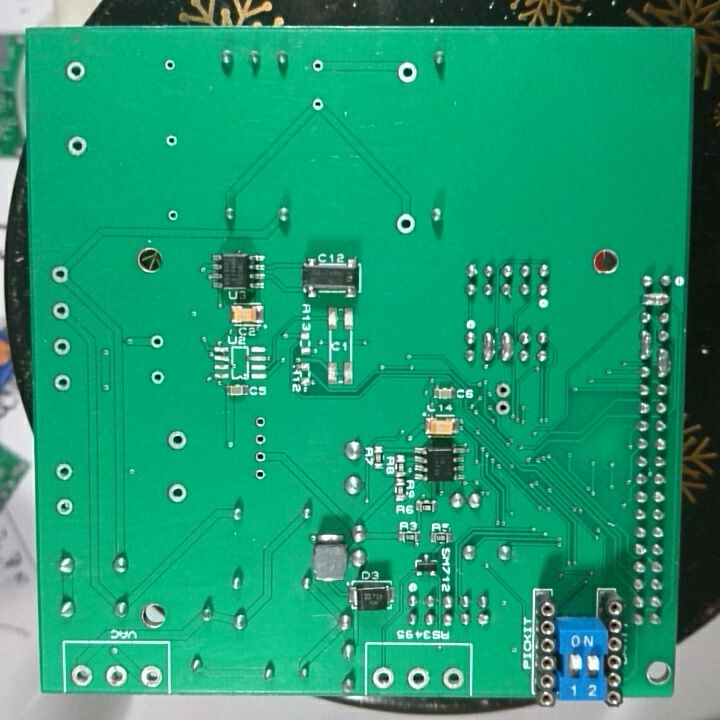F: (137, 663, 165, 692), (368, 664, 396, 691), (63, 56, 88, 86), (68, 662, 95, 689), (394, 58, 419, 87), (103, 662, 129, 689), (405, 664, 431, 691), (439, 665, 465, 692), (392, 211, 418, 238), (165, 427, 189, 455), (64, 133, 90, 158), (166, 480, 188, 506), (53, 496, 76, 520), (48, 263, 71, 286), (51, 336, 74, 359), (49, 299, 71, 323), (53, 460, 74, 483), (52, 372, 71, 393), (492, 398, 513, 417), (147, 332, 166, 352), (147, 366, 166, 386), (251, 448, 271, 467), (251, 430, 271, 449), (494, 380, 513, 400), (251, 411, 271, 429), (164, 206, 181, 225), (309, 95, 325, 114), (164, 132, 180, 151), (252, 466, 269, 483), (309, 57, 325, 75), (162, 57, 176, 75)
P: (654, 344, 674, 380), (639, 289, 674, 308), (637, 326, 654, 362), (498, 327, 514, 365), (480, 327, 496, 364)
